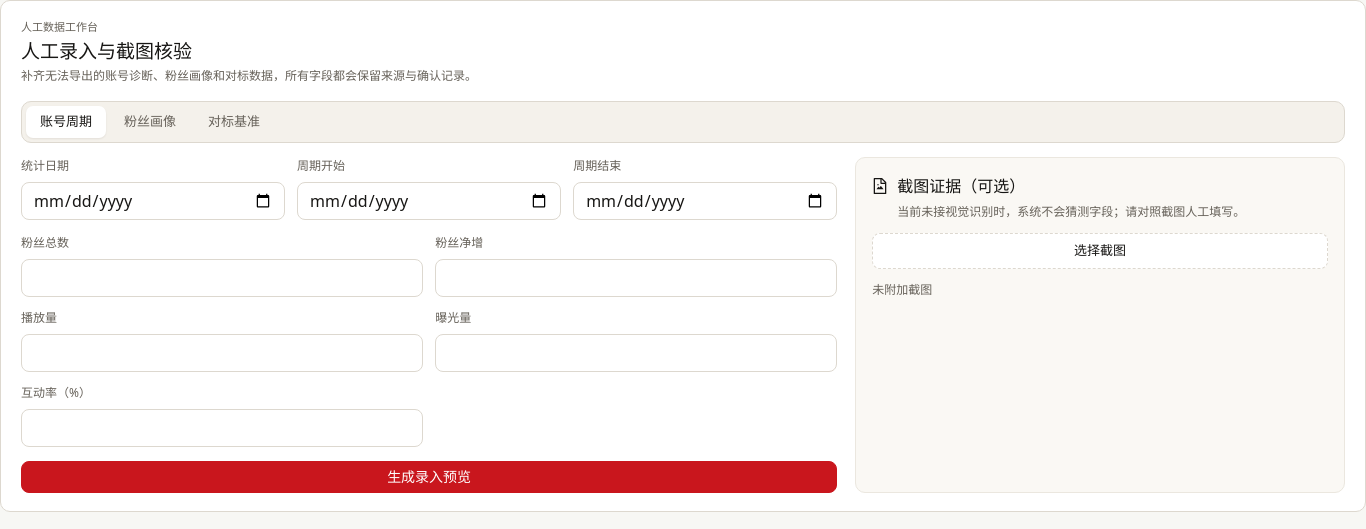
Test: ManualDataEntry › switches to audience entry without hiding the evidence workspace
The image size is (1366, 529).
Click the tab "粉丝画像".
click(150, 122)  # box left=110, top=106, right=190, bottom=138
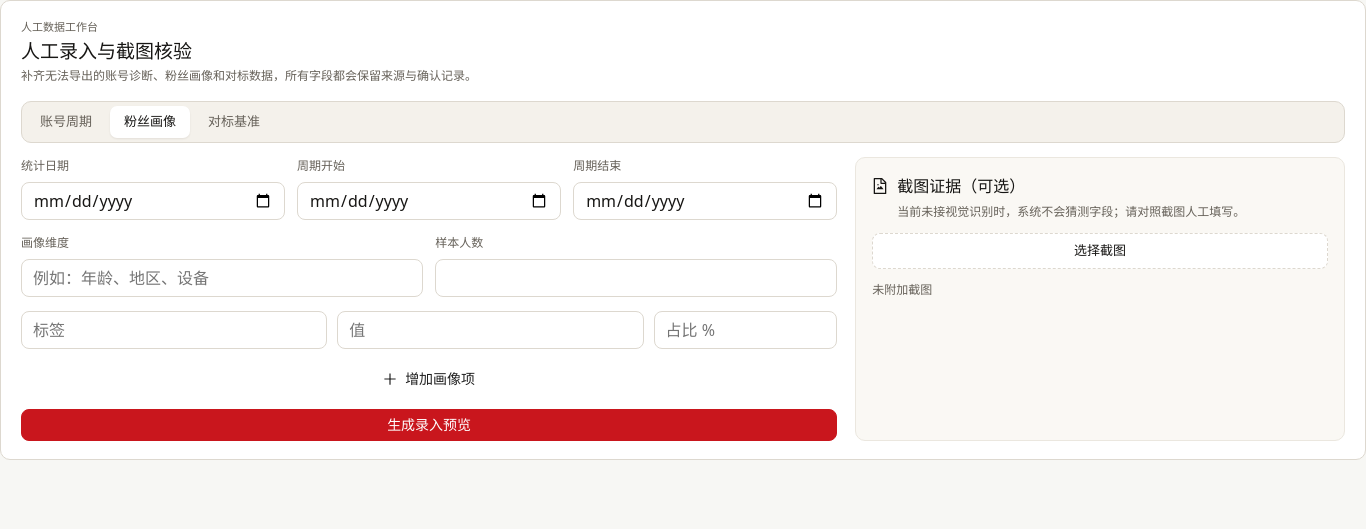
Expected: the text "截图证据（可选）" is shown, left=897, top=175, right=1025, bottom=197
Expected: the field labelled "画像维度" is shown, left=21, top=259, right=423, bottom=297
